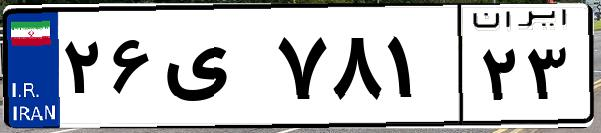1: (385, 28, 445, 110)
2: (57, 26, 110, 100), (475, 38, 525, 113)
3: (525, 38, 570, 115)
6: (110, 28, 158, 98)
7: (270, 28, 330, 110)
8: (330, 28, 385, 110)
ی: (158, 20, 270, 120)
